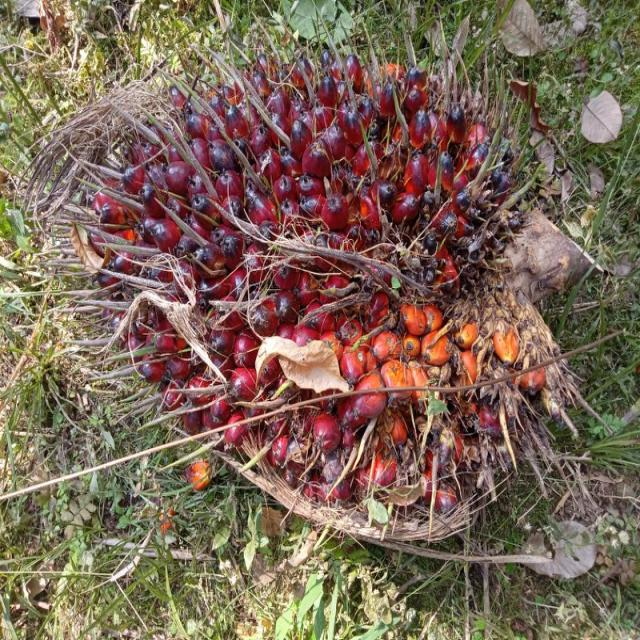fraksi 3: (28, 13, 610, 591)
